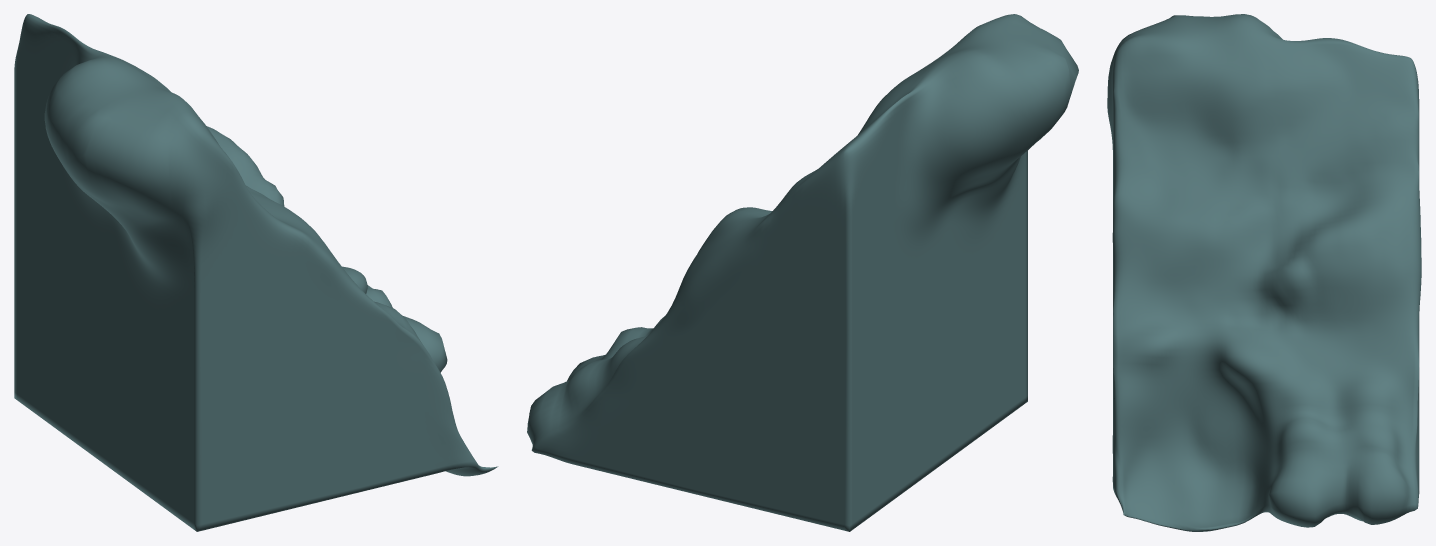
File: slab3.fbx
3 renders of one model, left to right at view 1: azimuth 30°, elevation 25°; view 2: azimuth 150°, elevation 25°; view 3: azimuth 270°, elevation 25°, orthographic. The views are drawn at different scales.
Visible parts, largest first — view 1: slab3; view 2: slab3; view 3: slab3.
Part boxes in pixels (x1,y1,x2,y2): slab3: (14,14,498,531); slab3: (527,14,1078,531); slab3: (1107,14,1421,531).
Size of the model in its own units: 24.88 by 24.41 by 18.23.
